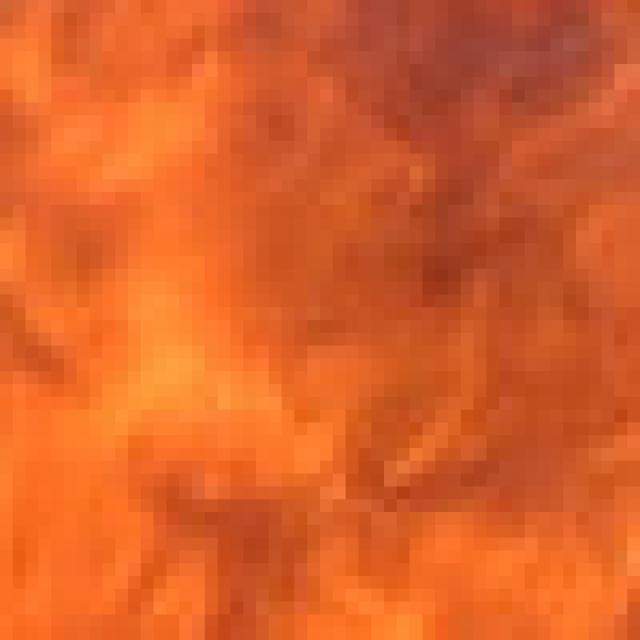fire: (6, 6, 638, 640)
